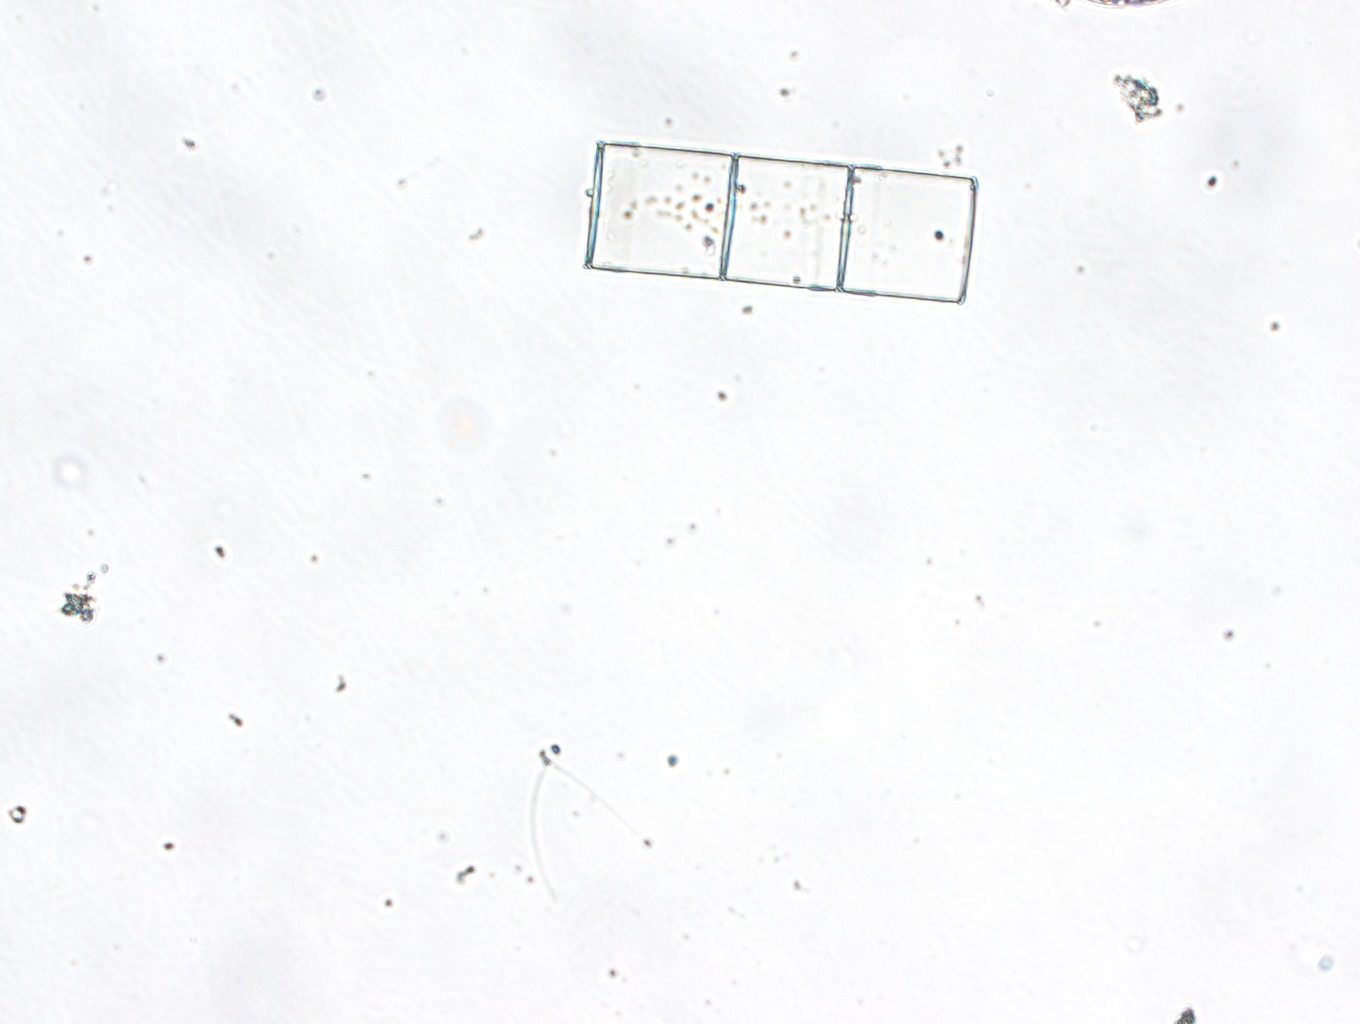guinardia flaccida: (584, 139, 977, 303)
